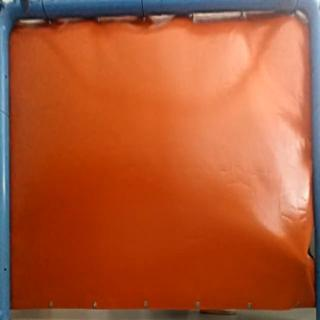Hit-hRxx: (297, 259, 311, 273)
